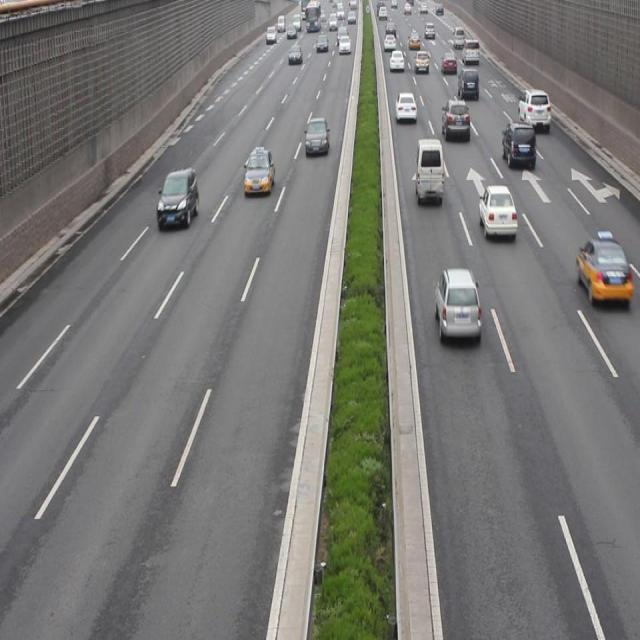car: (575, 233, 627, 306), (433, 270, 481, 346), (156, 170, 197, 228), (478, 185, 516, 242), (501, 120, 533, 172), (518, 90, 550, 132), (245, 147, 272, 196), (442, 97, 469, 140), (305, 116, 327, 154)
truck: (414, 139, 443, 205)
